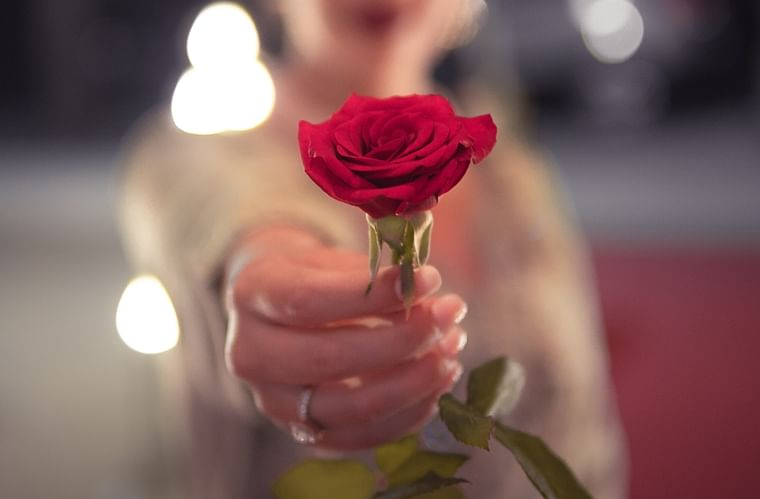rose: (279, 77, 532, 233)
